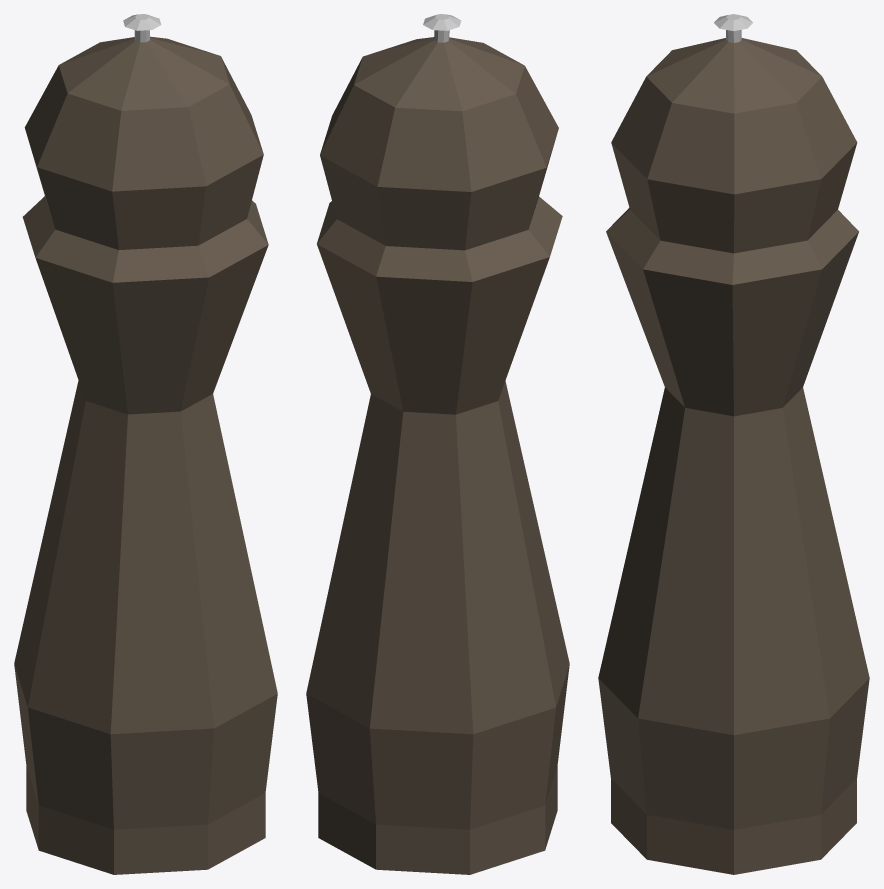
File: pepper.fbx
The picture shows the model from 3 angles, left to right: view 1: azimuth 30°, elevation 25°; view 2: azimuth 150°, elevation 25°; view 3: azimuth 270°, elevation 25°; orthographic projection.
Visible parts, largest first — view 1: pepper; view 2: pepper; view 3: pepper.
Boxes of the visible parts, x1=… form: pepper: x1=14, y1=14, x2=277, y2=874; pepper: x1=306, y1=14, x2=569, y2=874; pepper: x1=598, y1=14, x2=869, y2=874.
Bounding box in the file's own units: 16.82 × 54.96 × 16.82.
